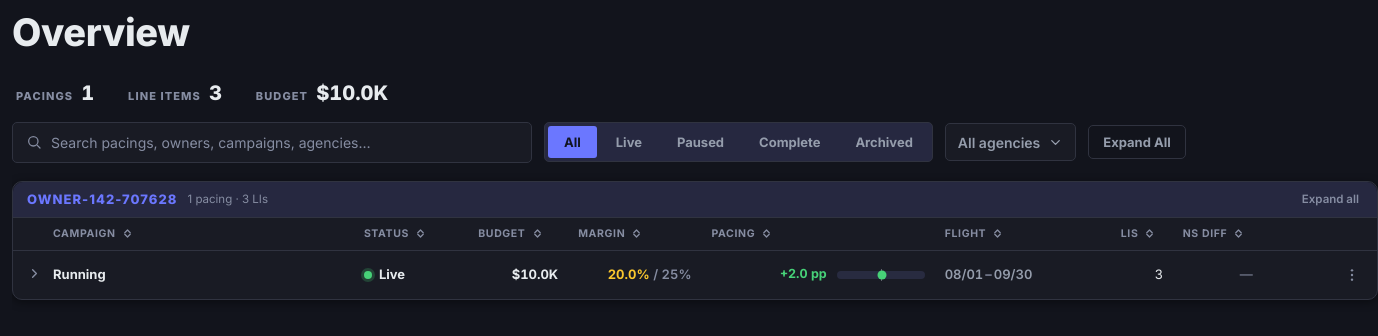
it: Overview › should hide archived pacings under All and show them when Archived is picked (US-128)
expect the text "Running" is shown: met, box [53,265,106,284]
expect the text "Shelved" is not shown: met
Note: picking Archived explicitly
Click the button "Archived".
click(884, 142)  # box [839,126,929,158]
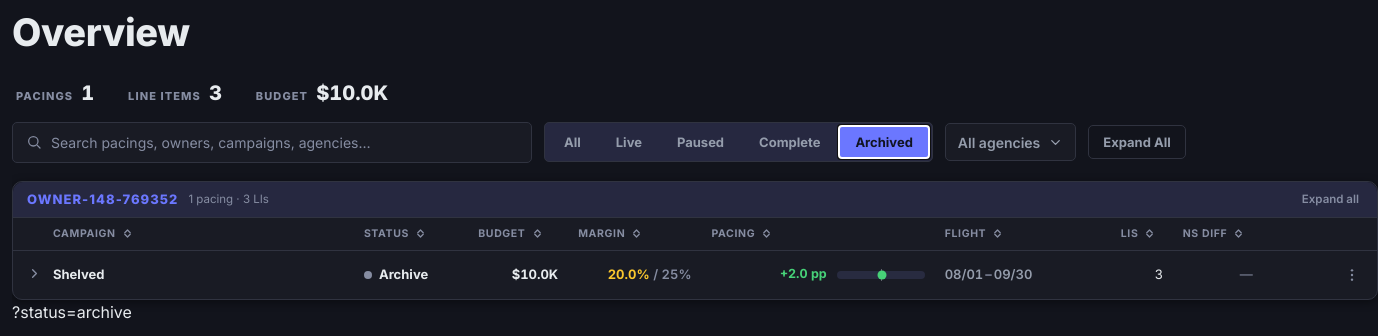
expect the text "Shelved" is shown: met, box [53,265,104,284]
expect the text "Running" is gone: met
